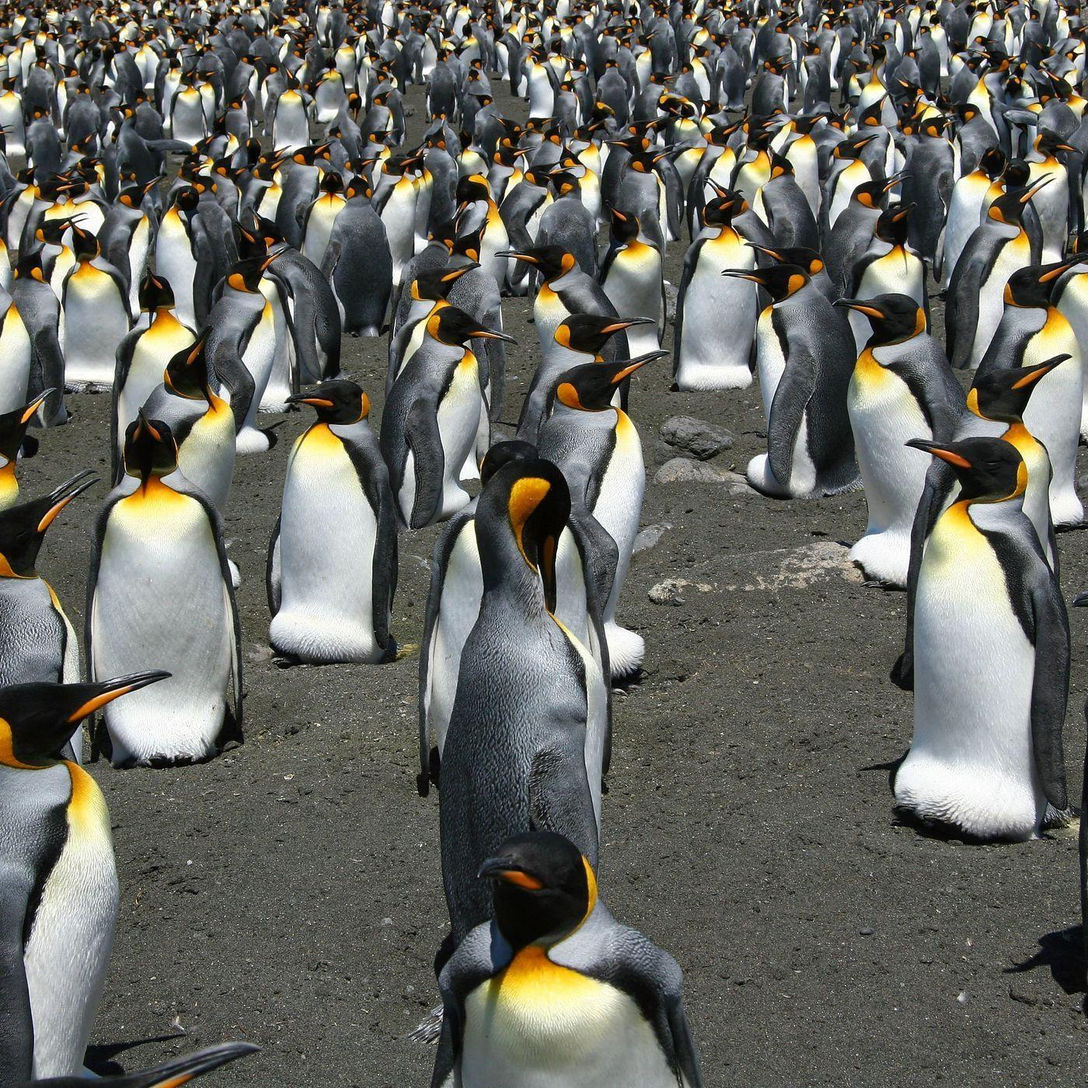Penguin: (440, 459, 603, 943), (894, 438, 1069, 839), (0, 671, 166, 1086), (431, 831, 701, 1086), (87, 417, 242, 767), (538, 353, 664, 678), (837, 293, 964, 587), (268, 380, 397, 662), (724, 263, 858, 498), (380, 306, 511, 528), (956, 355, 1067, 573), (0, 469, 97, 687), (110, 272, 195, 481), (946, 180, 1045, 353), (142, 330, 235, 512), (516, 315, 644, 444), (674, 196, 758, 391), (206, 257, 276, 452), (508, 244, 619, 350), (61, 225, 131, 393), (387, 263, 477, 392), (266, 249, 343, 399), (321, 176, 392, 336), (12, 253, 68, 427), (599, 208, 664, 357), (820, 176, 900, 294), (943, 147, 1005, 286), (155, 185, 212, 331), (98, 179, 157, 316), (848, 206, 926, 305), (533, 170, 597, 267), (752, 155, 818, 247), (455, 174, 510, 284), (0, 391, 50, 508), (372, 155, 417, 284), (901, 117, 954, 224), (189, 170, 237, 281), (999, 62, 1047, 173), (820, 134, 875, 228), (20, 177, 84, 257), (654, 138, 703, 239), (1028, 130, 1070, 246), (846, 92, 892, 197), (420, 117, 462, 228), (942, 99, 999, 179), (556, 145, 606, 235), (1003, 253, 1087, 306), (500, 166, 553, 250), (279, 140, 321, 243), (786, 113, 825, 219), (302, 172, 346, 265), (218, 145, 251, 259), (168, 70, 218, 144), (895, 71, 948, 140), (691, 124, 738, 201), (240, 151, 287, 228), (891, 99, 935, 180), (731, 127, 774, 205), (406, 141, 435, 256), (115, 104, 157, 183), (36, 217, 75, 298), (2, 168, 38, 253), (489, 142, 534, 210), (309, 58, 357, 121), (864, 35, 896, 126), (792, 35, 833, 106), (272, 76, 310, 152), (631, 64, 678, 125), (134, 89, 168, 172), (160, 152, 212, 206), (913, 19, 952, 90), (26, 106, 61, 183), (65, 83, 99, 159), (569, 116, 611, 176), (645, 13, 684, 75), (48, 58, 84, 125), (563, 49, 595, 124), (425, 51, 459, 121), (373, 66, 406, 138), (1034, 37, 1082, 86), (466, 88, 504, 148), (595, 60, 629, 127), (527, 47, 559, 118), (612, 34, 642, 109), (752, 58, 790, 117), (496, 30, 528, 99), (897, 47, 934, 106), (817, 105, 851, 169), (455, 70, 490, 132), (517, 109, 556, 164), (689, 26, 718, 99), (60, 127, 104, 175), (758, 10, 794, 68), (949, 31, 994, 77), (259, 61, 286, 137), (23, 54, 58, 112), (154, 47, 190, 103), (630, 24, 666, 80), (0, 78, 25, 157), (229, 136, 265, 190), (564, 6, 598, 63), (104, 37, 138, 92), (221, 90, 256, 143), (396, 30, 424, 96), (664, 101, 704, 147), (948, 53, 984, 103), (366, 85, 396, 145), (979, 45, 1009, 105), (197, 39, 228, 97), (1048, 72, 1086, 119), (841, 49, 871, 108), (23, 23, 65, 64), (181, 134, 220, 177), (129, 33, 160, 87), (527, 124, 564, 169), (334, 33, 362, 92), (556, 74, 588, 125), (727, 112, 783, 141), (820, 17, 842, 90), (881, 4, 909, 61), (652, 85, 696, 121), (724, 52, 749, 115), (324, 124, 354, 174), (97, 83, 120, 145), (361, 44, 386, 101), (361, 125, 397, 164), (229, 53, 258, 101), (456, 140, 488, 183), (595, 23, 626, 67), (322, 2, 351, 49), (734, 14, 759, 67), (1030, 12, 1052, 72), (968, 0, 996, 47), (695, 92, 732, 127), (826, 12, 854, 58), (163, 59, 181, 127), (340, 151, 378, 183), (379, 22, 405, 68), (61, 33, 98, 64), (59, 152, 104, 177), (224, 18, 253, 55), (246, 25, 272, 65), (74, 168, 106, 200), (445, 37, 469, 78), (491, 109, 521, 141), (678, 9, 694, 68), (461, 21, 484, 62), (199, 19, 228, 49), (706, 0, 726, 43), (506, 261, 531, 295), (602, 332, 631, 361), (991, 4, 1009, 49), (289, 45, 312, 80), (8, 31, 23, 83), (540, 13, 564, 45), (377, 0, 404, 28), (434, 25, 459, 54), (13, 5, 30, 35), (644, 127, 665, 149), (0, 40, 9, 82), (697, 3, 713, 26), (470, 57, 485, 76), (0, 16, 10, 42)
